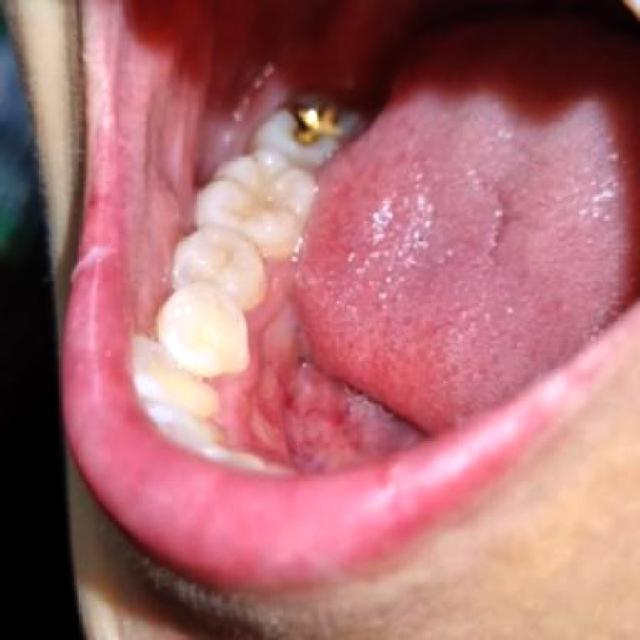Plaque: (205, 148, 269, 193)
